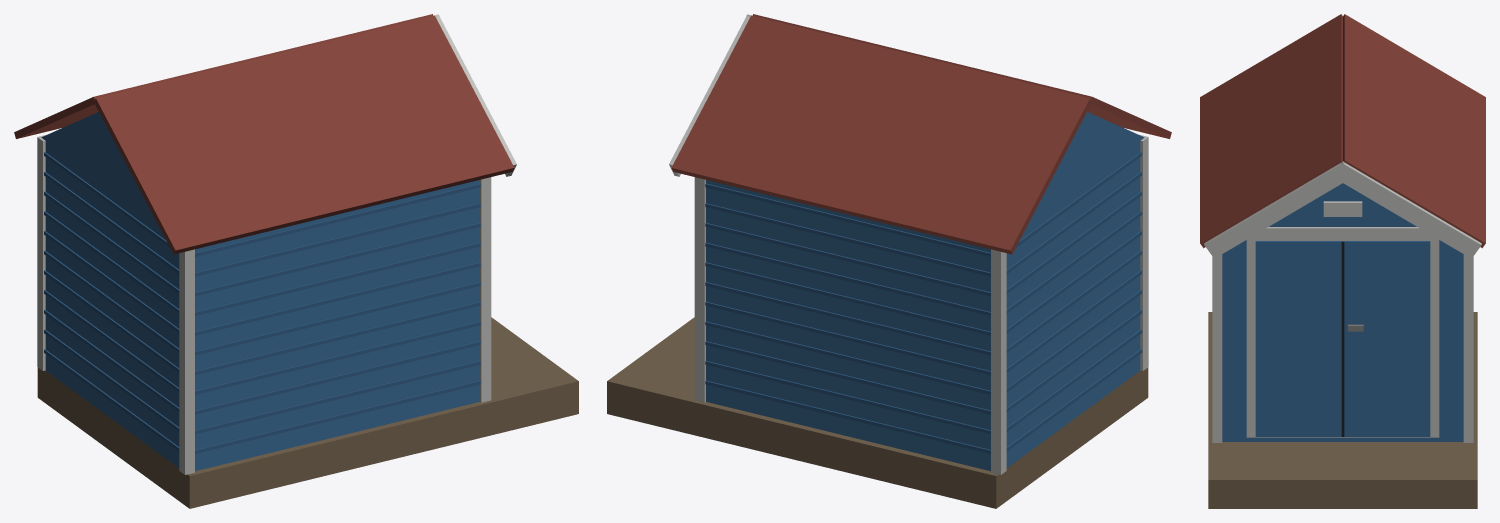
The model's file is SM_Prop_coast_beachhut_0.glb.
3 views of the same model, side by side, from view 1: azimuth 30°, elevation 25°; view 2: azimuth 150°, elevation 25°; view 3: azimuth 270°, elevation 25° (orthographic). The views are drawn at different scales.
Parts seen in each view (by area): view 1: SM_Prop_coast_beachhut_0; view 2: SM_Prop_coast_beachhut_0; view 3: SM_Prop_coast_beachhut_0.
Boxes of the visible parts, x1,y1,x2,y2 form: SM_Prop_coast_beachhut_0: [14, 14, 578, 508]; SM_Prop_coast_beachhut_0: [607, 14, 1171, 508]; SM_Prop_coast_beachhut_0: [1200, 14, 1485, 508].
Size of the model in its own units: 3.25 by 2.74 by 2.23.
